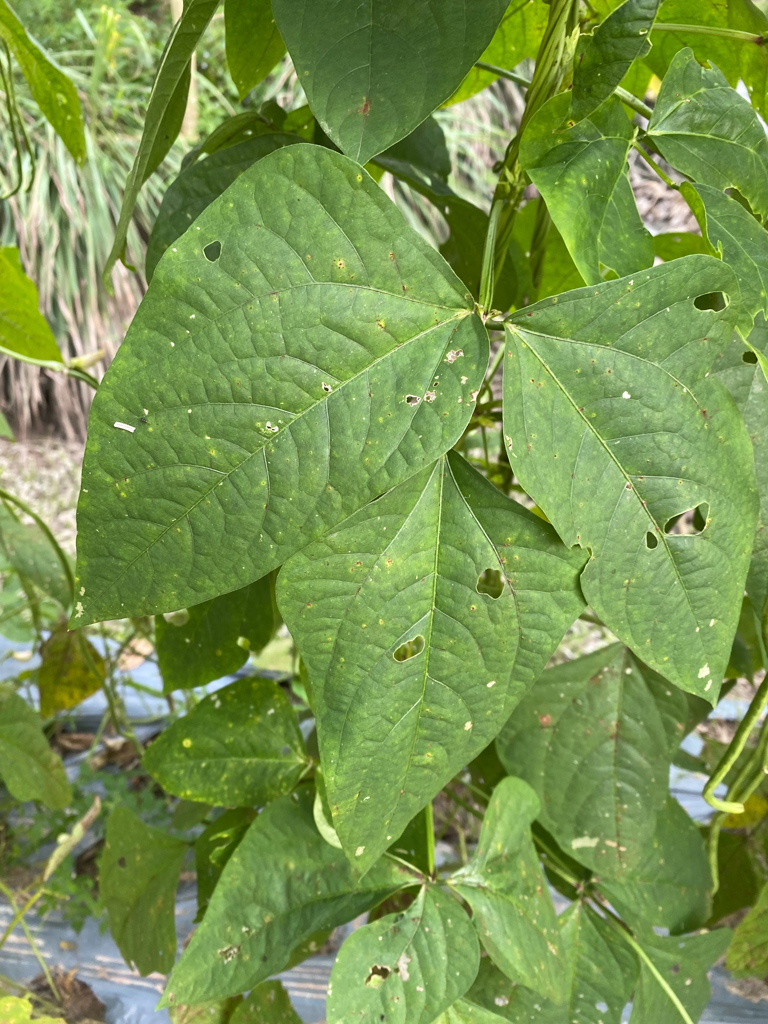Alternaria brassicicola: (320, 247, 359, 286), (363, 305, 399, 340), (108, 475, 140, 504), (203, 441, 227, 463), (175, 733, 203, 751), (374, 613, 393, 632), (354, 172, 369, 185), (466, 602, 481, 615)
